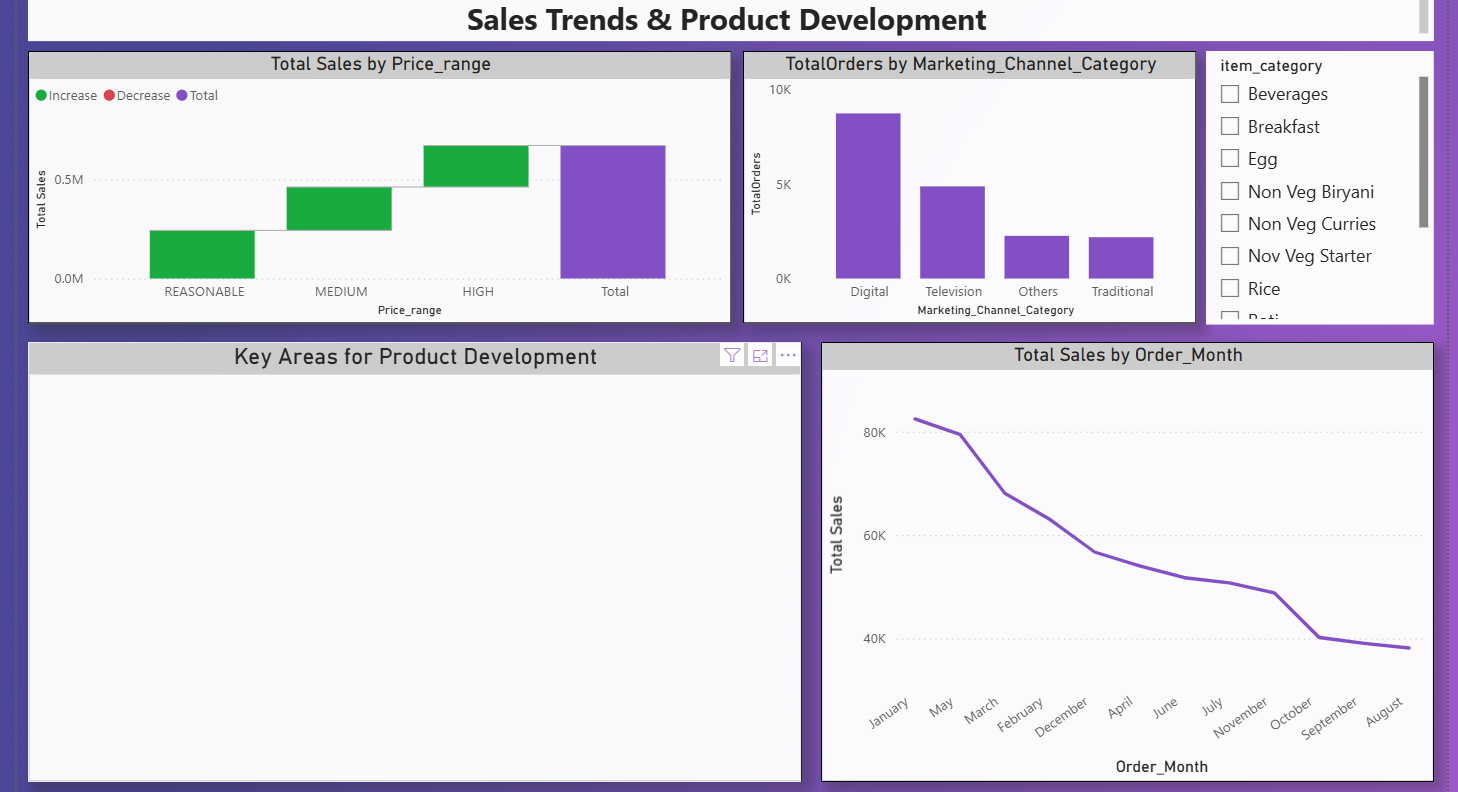

This screenshot's page, from the dashboard's own definition file:
{"tool":"powerbi","page":{"name":"Sales Trends & Product Development","canvas":[1280,720],"ordinal":4},"visuals":[{"type":"waterfallChart","fields":{"Category":["Fact_Order Details.Price_range","Fact_Order Details.RatingCategory"],"Y":["DAX Measures.Total Sales"]},"box":[10,52.5,630,243.8],"z":0},{"type":"map","title":"Key Areas for Product Development","fields":{"Category":["Dim_Geography.City"],"Series":["Dim_Geography.State"],"Size":["DAX Measures.Total Sales"]},"box":[10,313.8,692.5,393.8],"z":1000},{"type":"columnChart","fields":{"Category":["Fact_Order Details.Marketing_Channel_Category"],"Y":["DAX Measures.TotalOrders"]},"box":[650,52.5,406.2,243.8],"z":2000},{"type":"lineChart","fields":{"Y":["DAX Measures.Total Sales"],"Category":["Fact_Order Details.Order_Month"]},"box":[720,313.8,548.8,393.8],"z":3000},{"type":"textbox","box":[10,0,1258.8,43.8],"z":4000},{"type":"slicer","fields":{"Values":["Dim_Menu Items.item_category"]},"box":[1065,52.5,203.8,245],"z":5000}]}

Visuals, with their boxes in screenshot pixels (x1, y1, x2, y2):
waterfallChart - Fact_Order Details.Price_range x Fact_Order Details.RatingCategory: bbox=[19, 44, 729, 319]
"Key Areas for Product Development" map: bbox=[19, 338, 799, 782]
columnChart - Fact_Order Details.Marketing_Channel_Category x DAX Measures.TotalOrders: bbox=[740, 44, 1198, 319]
lineChart - DAX Measures.Total Sales x Fact_Order Details.Order_Month: bbox=[819, 338, 1437, 782]
textbox: bbox=[19, 0, 1437, 34]
slicer - Dim_Menu Items.item_category: bbox=[1208, 44, 1437, 320]
